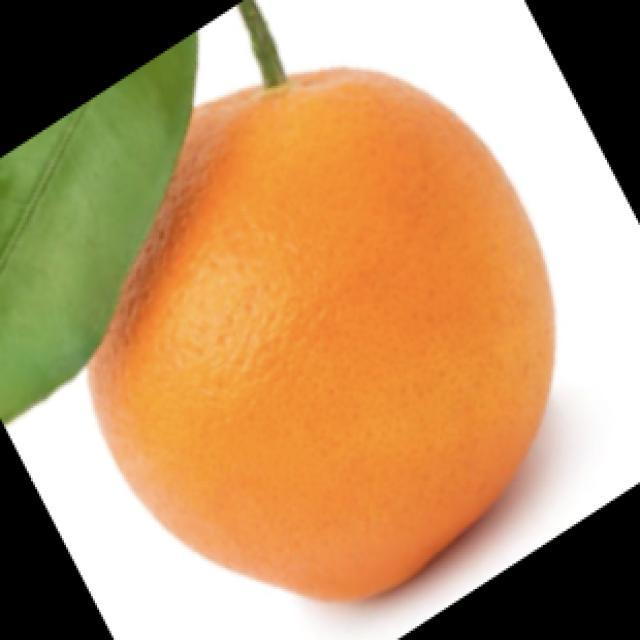matang: (93, 70, 553, 598)
